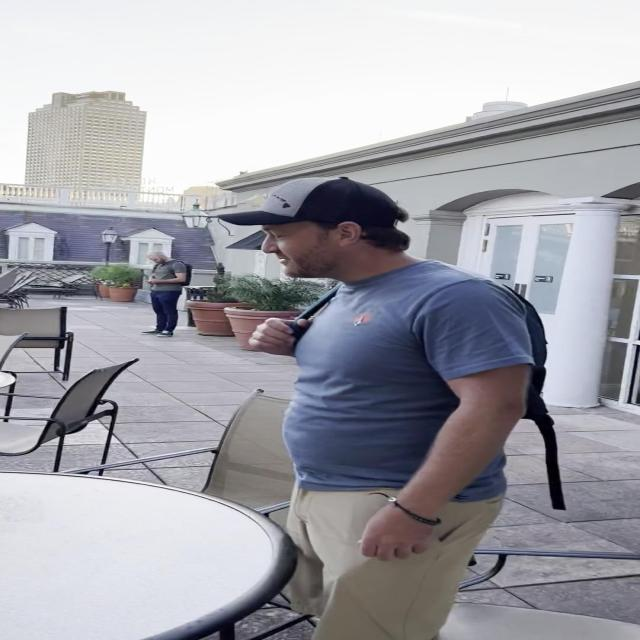NO-Mask: (258, 223, 340, 279), (151, 254, 167, 264)
